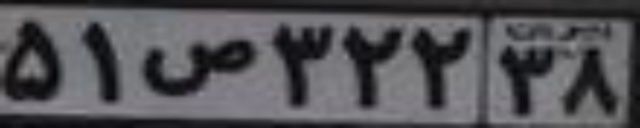1: (76, 21, 125, 102)
2: (408, 25, 474, 108), (341, 25, 403, 109)
3: (269, 22, 328, 108), (497, 45, 557, 116)
5: (2, 21, 64, 102)
8: (562, 47, 618, 115)
saat: (136, 37, 258, 98)
